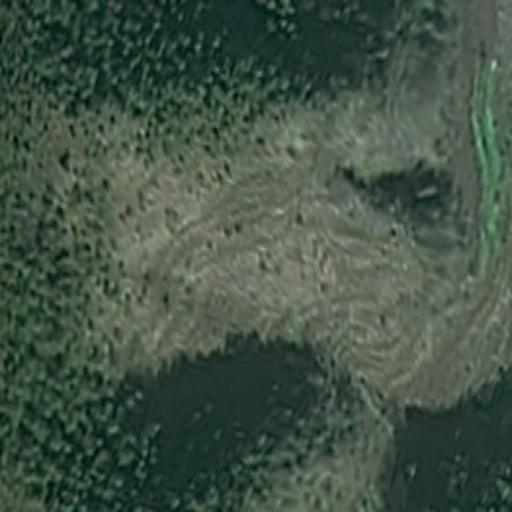landslide: (99, 113, 443, 347)
